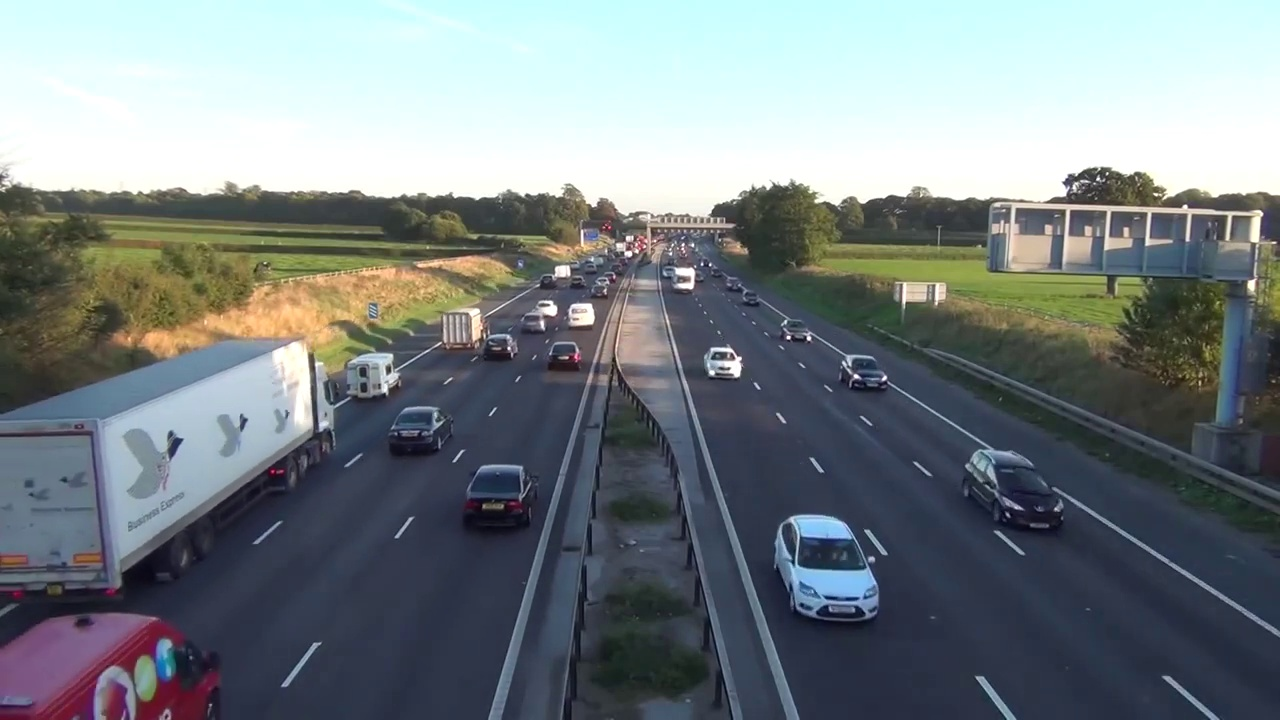bus: (774, 512, 880, 623), (963, 446, 1065, 533), (461, 460, 542, 529), (387, 402, 453, 453), (839, 353, 887, 391), (704, 348, 742, 379), (548, 342, 583, 371), (484, 334, 518, 360), (779, 318, 811, 344), (566, 303, 594, 328), (520, 313, 546, 333), (532, 299, 559, 318)
car: (0, 338, 338, 600), (441, 309, 486, 348)
lorry: (344, 351, 402, 399)
minibus: (0, 615, 224, 720)
